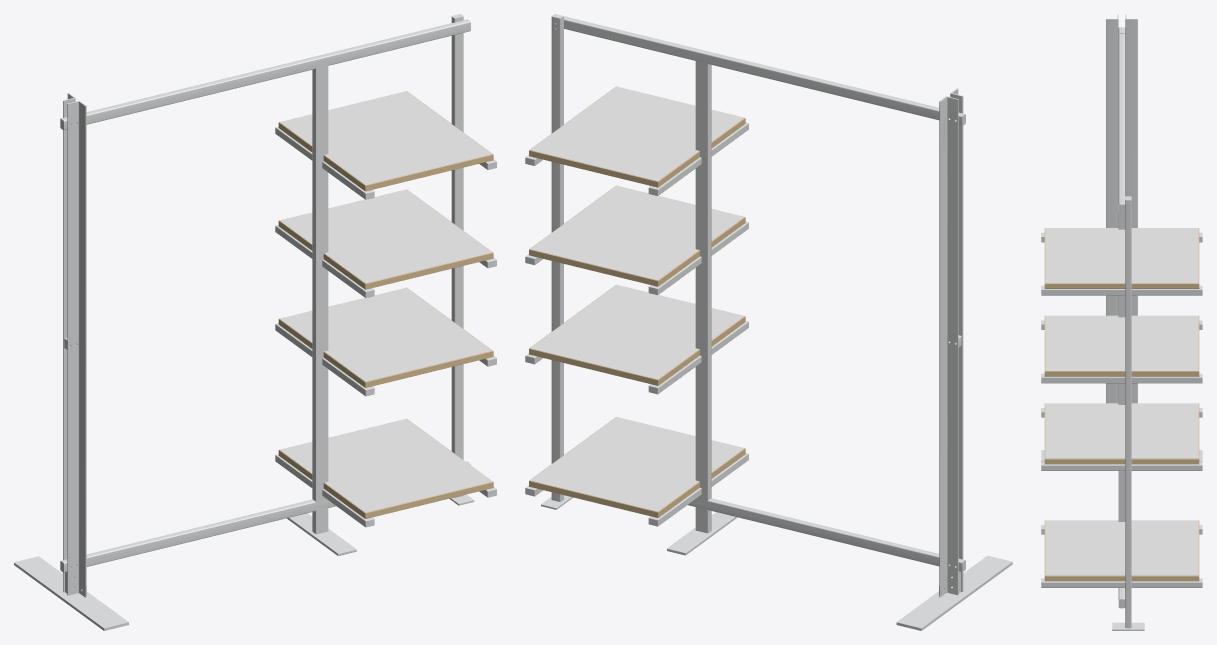
3 renders of one model, left to right at view 1: azimuth 30°, elevation 25°; view 2: azimuth 150°, elevation 25°; view 3: azimuth 270°, elevation 25°, orthographic. The views are drawn at different scales.
Parts seen in each view (by area): view 1: s0.3.top, s0.0.top, s0.1.top, s0.2.top, 026_105-06-001-10_Default_As_Machined_, post0, 003_part, 005_part, 009_part, 000_105-06-001-01_Default_As_Machined_, 010_105-06-001-06, s0.3.core (+8 smaller); view 2: s0.0.top, s0.3.top, s0.2.top, s0.1.top, 000_105-06-001-01_Default_As_Machined_, post0, 003_part, 005_part, 009_part, 026_105-06-001-10_Default_As_Machined_, 010_105-06-001-06, s0.0.core (+8 smaller); view 3: s0.3.top, s0.0.top, s0.1.top, s0.2.top, 026_105-06-001-10_Default_As_Machined_, 005_part, 000_105-06-001-01_Default_As_Machined_, 003_part, s0.2.barr, s0.3.barr, s0.0.core, s0.1.core (+6 smaller).
Boxes of the visible parts, <box> form: s0.3.top: <box>279,91,492,185</box>; s0.0.top: <box>280,419,492,512</box>; s0.1.top: <box>280,288,492,381</box>; s0.2.top: <box>279,189,492,283</box>; 026_105-06-001-10_Default_As_Machined_: <box>67,101,86,597</box>; post0: <box>312,60,328,534</box>; 003_part: <box>61,19,470,129</box>; 005_part: <box>451,17,463,459</box>; 009_part: <box>62,462,470,572</box>; 000_105-06-001-01_Default_As_Machined_: <box>63,93,75,592</box>; 010_105-06-001-06: <box>14,556,128,630</box>; s0.3.core: <box>278,91,493,191</box>; s0.0.top: <box>530,417,744,511</box>; s0.3.top: <box>530,86,744,181</box>; s0.2.top: <box>530,185,744,280</box>; s0.1.top: <box>530,285,744,379</box>; 000_105-06-001-01_Default_As_Machined_: <box>939,96,958,597</box>; post0: <box>695,60,711,533</box>; 003_part: <box>564,16,964,125</box>; 005_part: <box>551,17,563,501</box>; 009_part: <box>688,498,964,571</box>; 026_105-06-001-10_Default_As_Machined_: <box>950,88,963,591</box>; 010_105-06-001-06: <box>896,555,1012,630</box>; s0.0.core: <box>529,417,745,517</box>; s0.3.top: <box>1045,228,1198,283</box>; s0.0.top: <box>1045,520,1198,575</box>; s0.1.top: <box>1045,403,1198,458</box>; s0.2.top: <box>1045,315,1198,370</box>; 026_105-06-001-10_Default_As_Machined_: <box>1106,14,1118,403</box>; 005_part: <box>1125,200,1131,627</box>; 000_105-06-001-01_Default_As_Machined_: <box>1125,14,1137,403</box>; 003_part: <box>1118,27,1125,204</box>; s0.2.barr: <box>1041,373,1202,383</box>; s0.3.barr: <box>1041,285,1202,295</box>; s0.0.core: <box>1044,520,1199,581</box>; s0.1.core: <box>1044,403,1199,464</box>.
Size of the model in its own units: 1.31 by 1.51 by 0.5.
